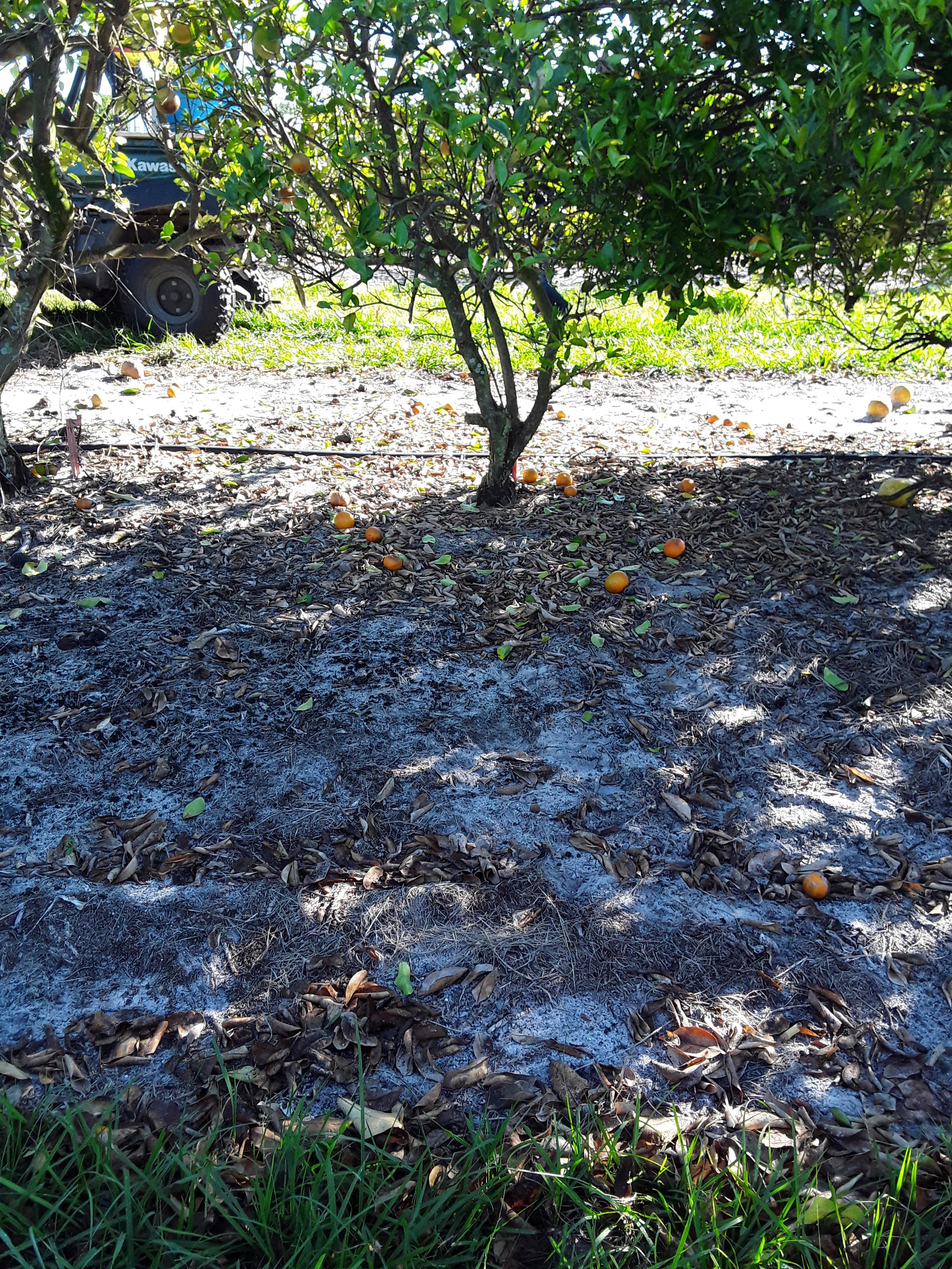fruit_on_ground: (251, 25, 284, 61), (748, 232, 781, 266), (153, 86, 184, 113), (696, 27, 721, 52), (170, 20, 192, 47), (288, 151, 310, 177), (279, 184, 297, 206), (440, 138, 457, 159)
fruit_on_tree: (800, 869, 829, 902), (603, 568, 629, 597), (866, 397, 894, 421), (119, 357, 149, 379), (662, 537, 687, 561), (889, 383, 912, 406), (382, 552, 406, 574), (334, 508, 355, 532), (363, 524, 386, 545), (520, 464, 539, 486), (554, 469, 572, 489), (26, 460, 44, 479), (678, 477, 695, 497), (89, 393, 107, 409), (720, 414, 735, 433), (75, 497, 94, 510), (738, 416, 752, 433), (164, 384, 178, 400), (705, 414, 722, 425), (443, 402, 457, 414), (555, 408, 567, 422)
